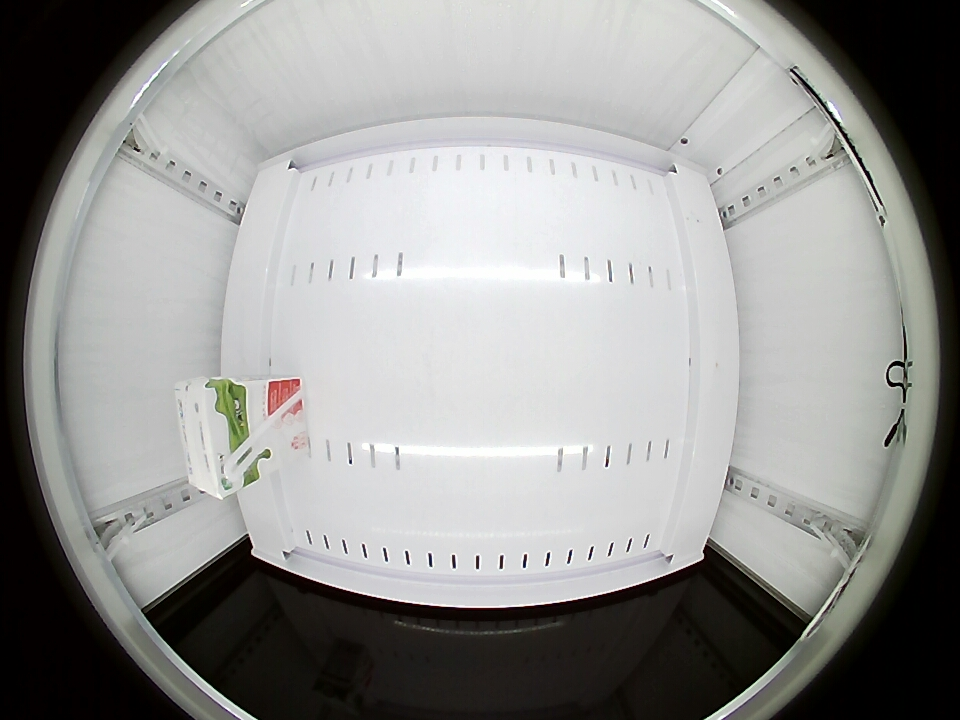mengniu: (174, 376, 249, 500)
